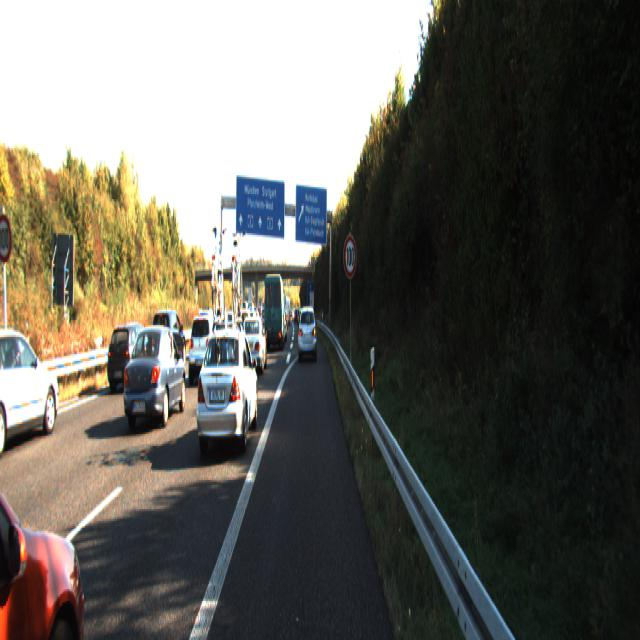Car: (0, 352, 102, 638), (193, 325, 259, 463), (0, 321, 65, 460), (121, 322, 187, 432), (106, 320, 156, 391), (185, 314, 223, 387), (149, 306, 187, 370), (238, 315, 268, 376), (263, 271, 284, 349), (298, 304, 317, 360)
